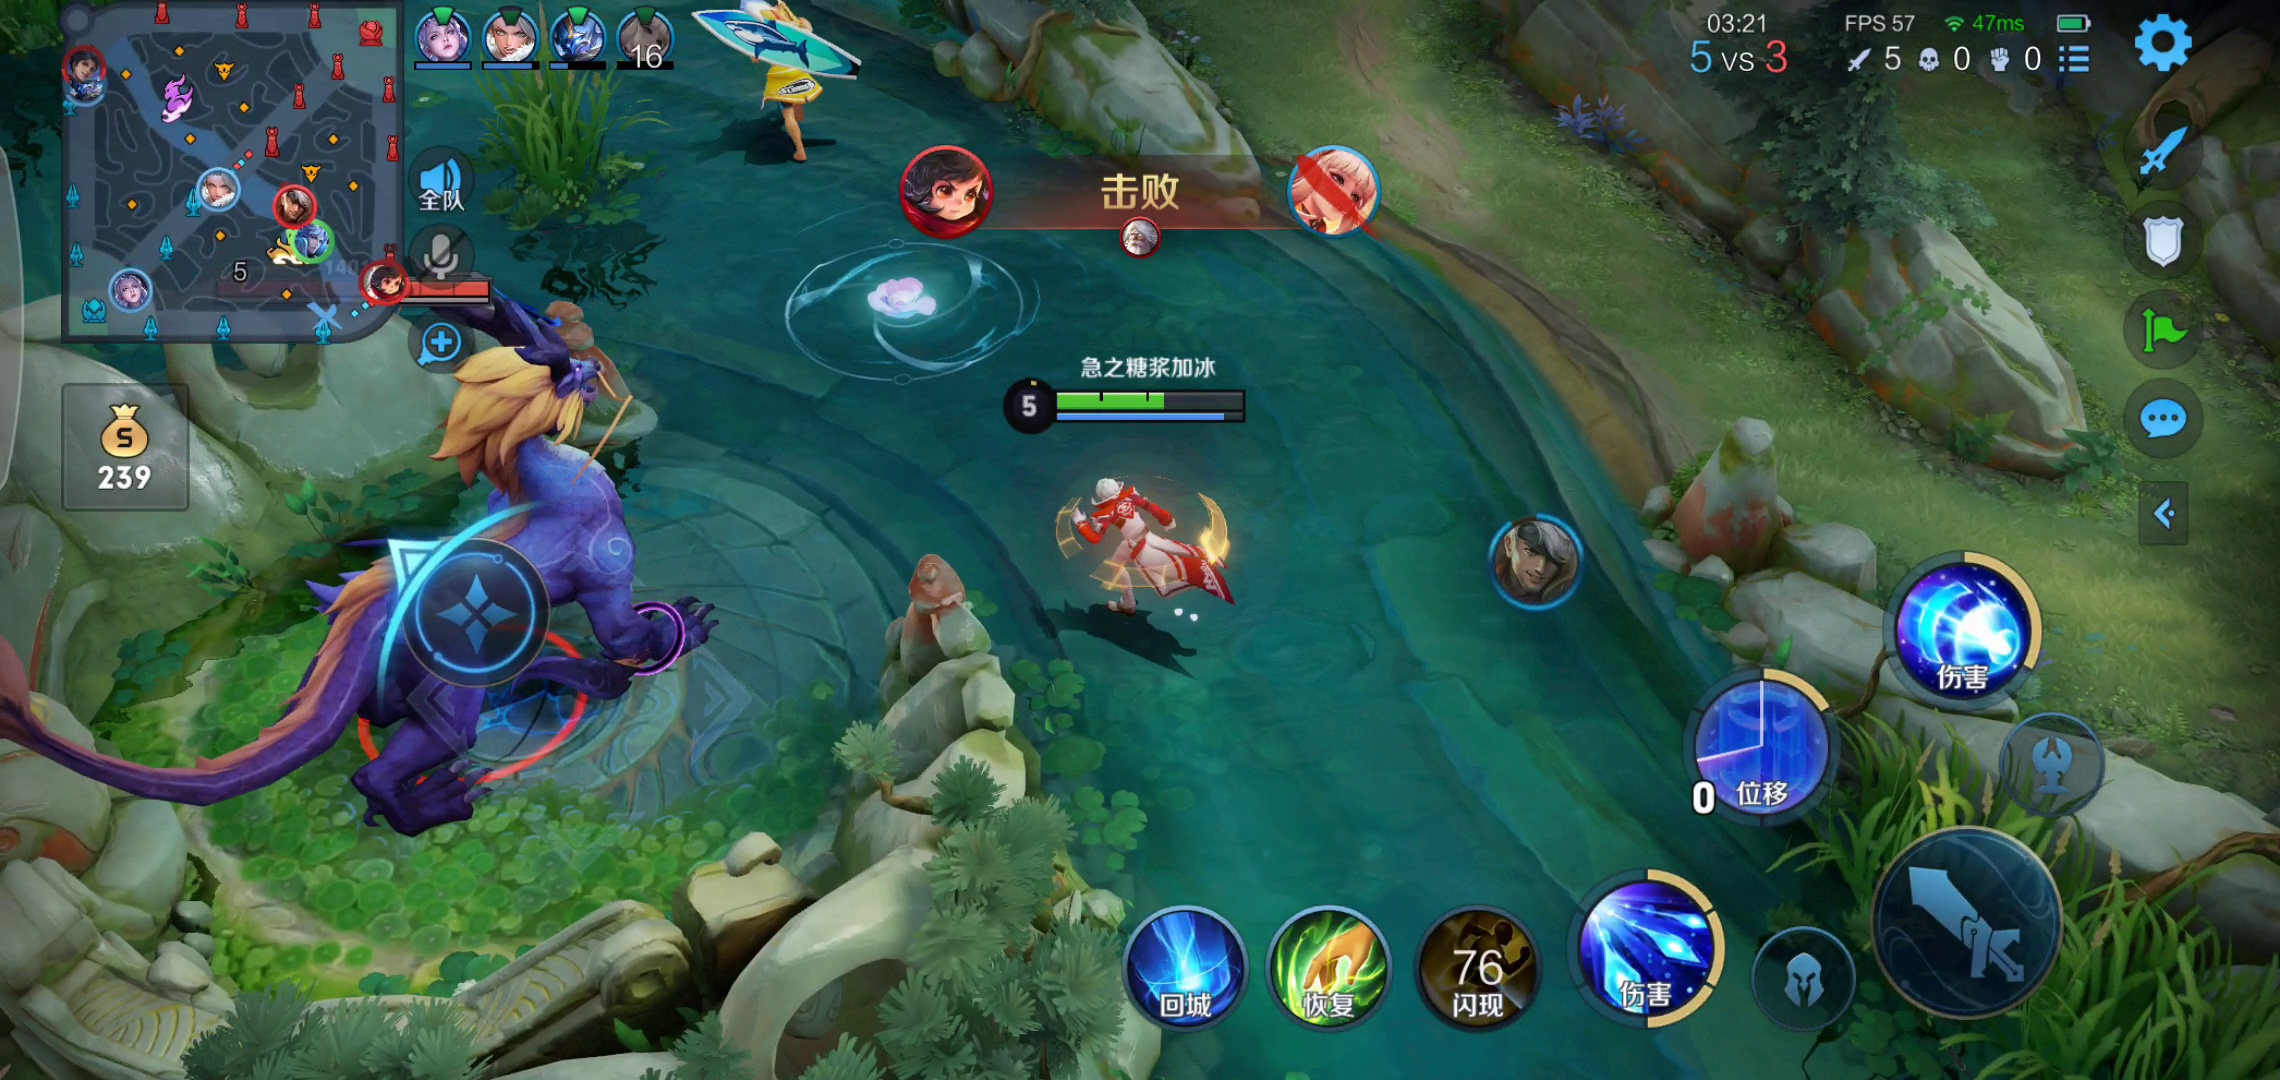dragon: (121, 347, 747, 834)
grass: (1695, 688, 2280, 1064), (465, 71, 657, 221)
hero: (1015, 451, 1268, 642), (681, 3, 865, 151)
